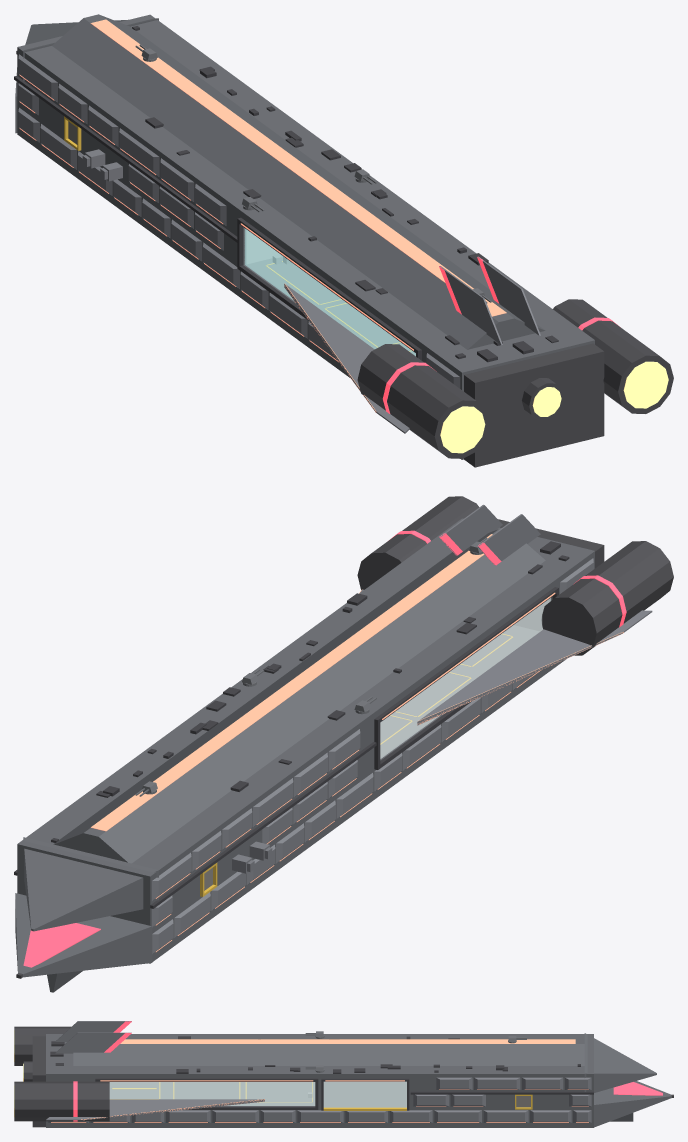
The model's file is ship_MEDIUM_v3.glb.
3 renders of one model, top to bottom at view 1: azimuth 30°, elevation 25°; view 2: azimuth 150°, elevation 25°; view 3: azimuth 270°, elevation 25°, orthographic. The views are drawn at different scales.
Parts seen in each view (by area): view 1: MEDIUM_Hull-col, MEDIUM_Engines, MEDIUM_Armor, MEDIUM_Lights, MEDIUM_HangarShield_Port, MEDIUM_EngineGlow, MEDIUM_Trim, MEDIUM_Decks-col, MEDIUM_Details, MEDIUM_Accent; view 2: MEDIUM_Hull-col, MEDIUM_Armor, MEDIUM_Engines, MEDIUM_Lights, MEDIUM_HangarShield_Port, MEDIUM_Decks-col, MEDIUM_Trim, MEDIUM_Accent, MEDIUM_Details; view 3: MEDIUM_Hull-col, MEDIUM_Armor, MEDIUM_Engines, MEDIUM_HangarShield_Starboard, MEDIUM_Decks-col, MEDIUM_Lights, MEDIUM_Trim, MEDIUM_CargoBayShield, MEDIUM_CargoBayDoor-col, MEDIUM_Accent, MEDIUM_Hazard, MEDIUM_Details.
Part boxes in pixels (x1,y1,x2,y2): MEDIUM_Hull-col: (15, 14, 594, 459); MEDIUM_Engines: (16, 51, 673, 467); MEDIUM_Armor: (18, 54, 540, 433); MEDIUM_Lights: (19, 19, 506, 412); MEDIUM_HangarShield_Port: (244, 228, 415, 355); MEDIUM_EngineGlow: (440, 361, 668, 453); MEDIUM_Trim: (14, 76, 421, 360); MEDIUM_Decks-col: (247, 256, 415, 355); MEDIUM_Details: (132, 26, 558, 362); MEDIUM_Accent: (382, 256, 620, 413); MEDIUM_Hull-col: (15, 518, 594, 992); MEDIUM_Armor: (152, 504, 652, 953); MEDIUM_Engines: (16, 496, 673, 978); MEDIUM_Lights: (91, 534, 623, 951); MEDIUM_HangarShield_Port: (380, 598, 550, 758); MEDIUM_Decks-col: (380, 625, 539, 757); MEDIUM_Trim: (14, 587, 558, 908); MEDIUM_Accent: (23, 530, 626, 967); MEDIUM_Details: (51, 541, 569, 842); MEDIUM_Hull-col: (46, 1033, 671, 1127); MEDIUM_Armor: (46, 1021, 591, 1122); MEDIUM_Engines: (14, 1026, 673, 1127); MEDIUM_HangarShield_Starboard: (109, 1082, 315, 1105); MEDIUM_Decks-col: (109, 1082, 315, 1105); MEDIUM_Lights: (51, 1039, 588, 1122); MEDIUM_Trim: (95, 1078, 593, 1110); MEDIUM_CargoBayShield: (323, 1081, 406, 1107); MEDIUM_CargoBayDoor-col: (323, 1081, 406, 1106); MEDIUM_Accent: (73, 1021, 662, 1121); MEDIUM_Hazard: (110, 1082, 532, 1110); MEDIUM_Details: (50, 1036, 580, 1073).
Bounding box in the file's own units: 38.81 × 22.95 × 146.
